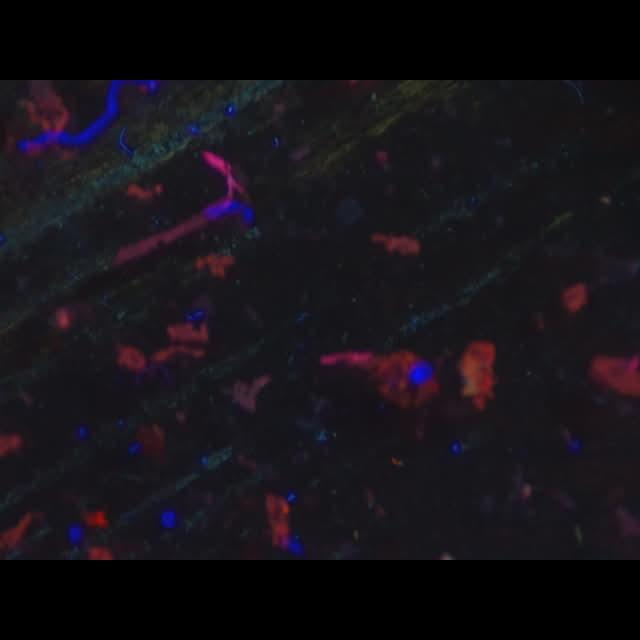Fragment: (462, 341, 496, 412), (266, 490, 292, 550)
